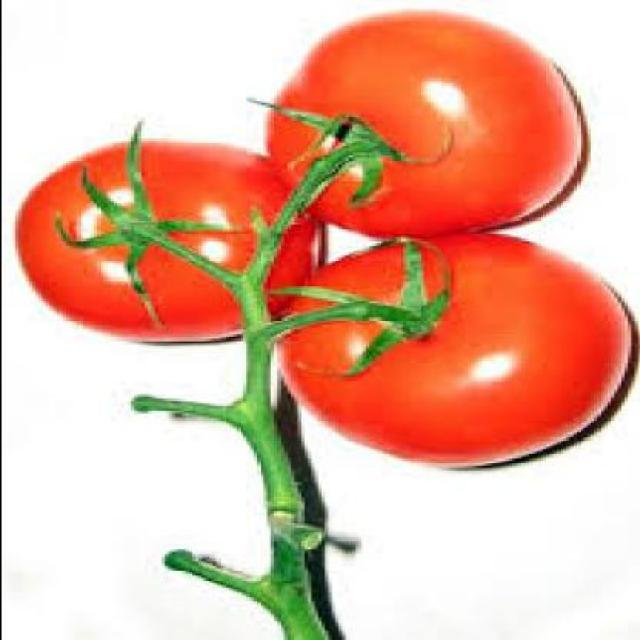BIODEGRADABLE: (269, 232, 633, 468), (262, 12, 586, 234), (17, 127, 320, 339)
